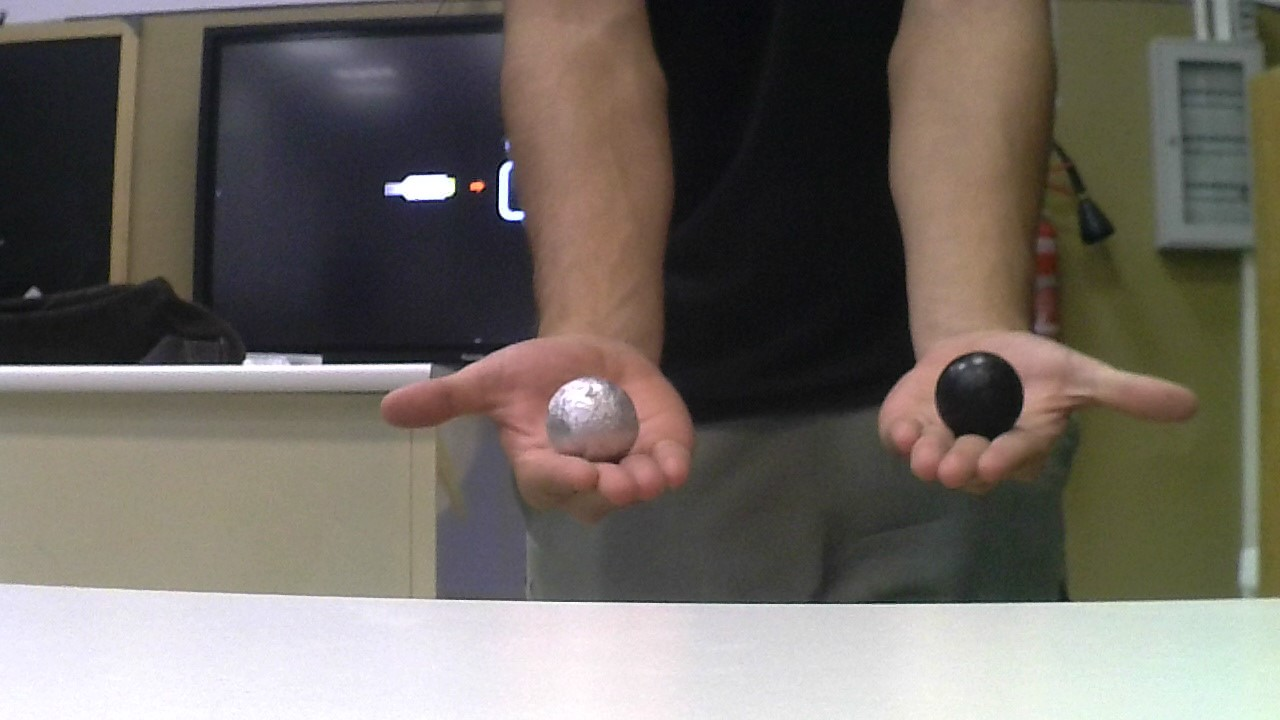black_ball: (932, 350, 1027, 436)
silver_ball: (546, 369, 648, 461)
